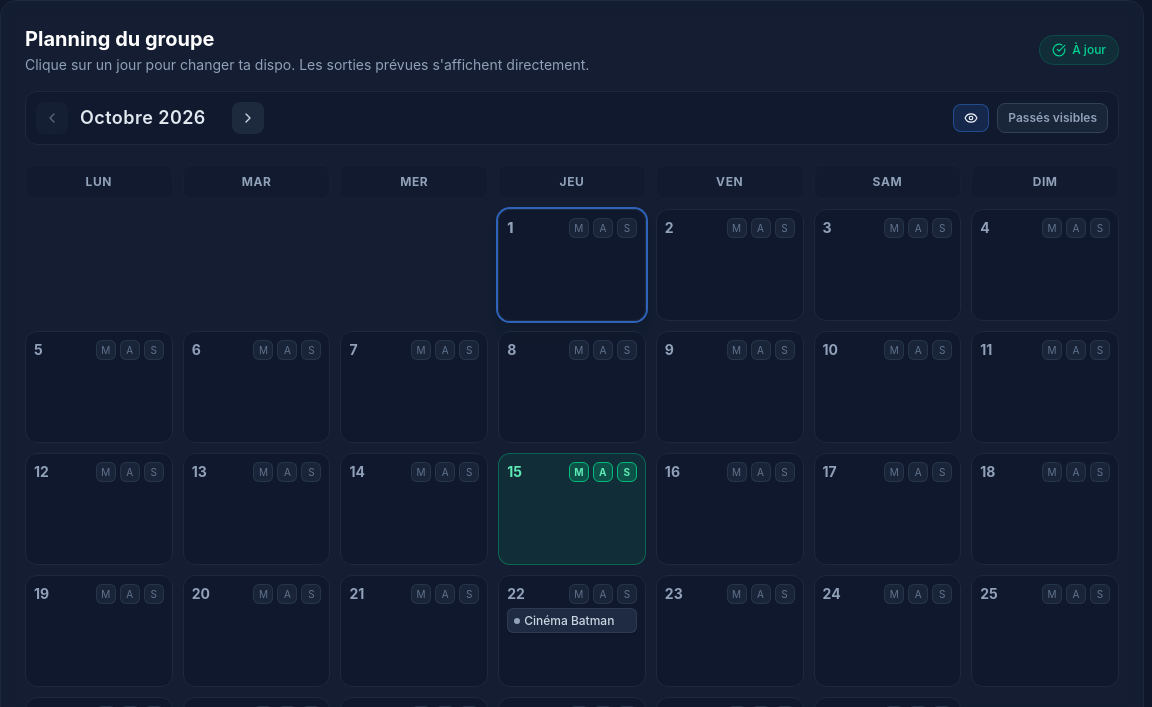
Test: GroupPlanningTab - Event Visualization › toggles visibility of events when clicking the Sorties switch
Check: the text "Cinéma Batman" is shown, box 524,613 -> 614,628
// Clic sur l'interrupteur Sorties
What coordinates should you click on to do the following:
click the button titled "Masquer les sorties sur le calendrier"
I would click on:
 (971, 118)
Its box is 953,104 -> 989,132.
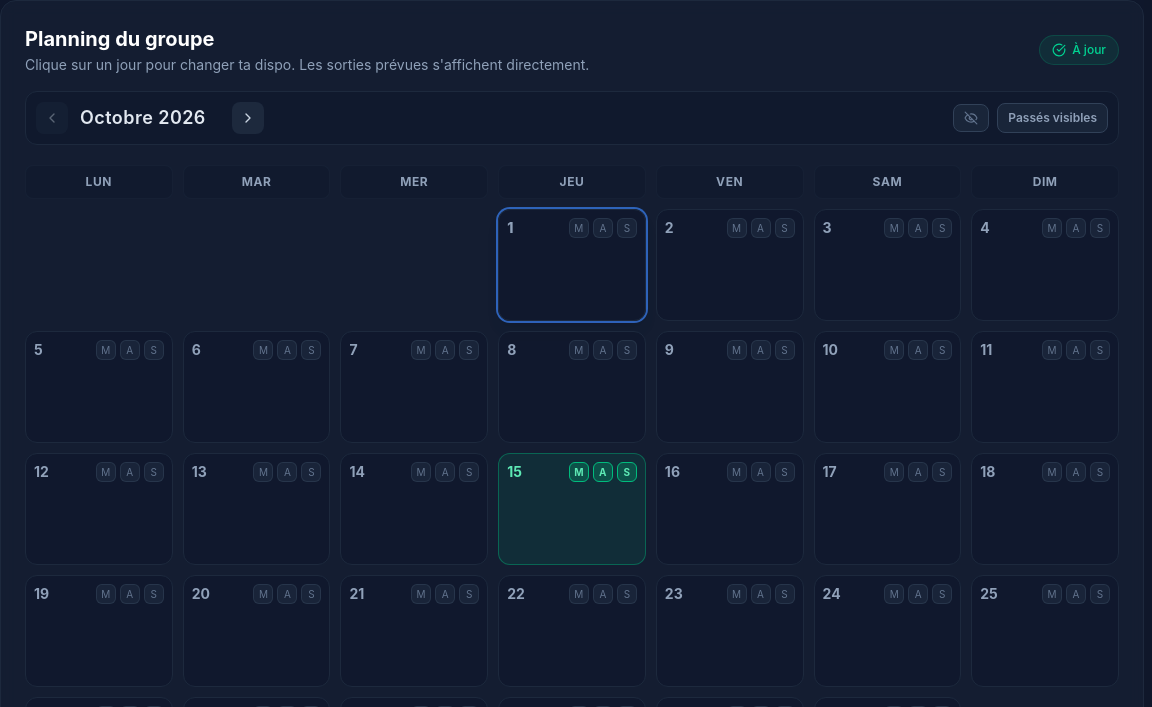
Check: the button "Cinéma Batman" is gone
